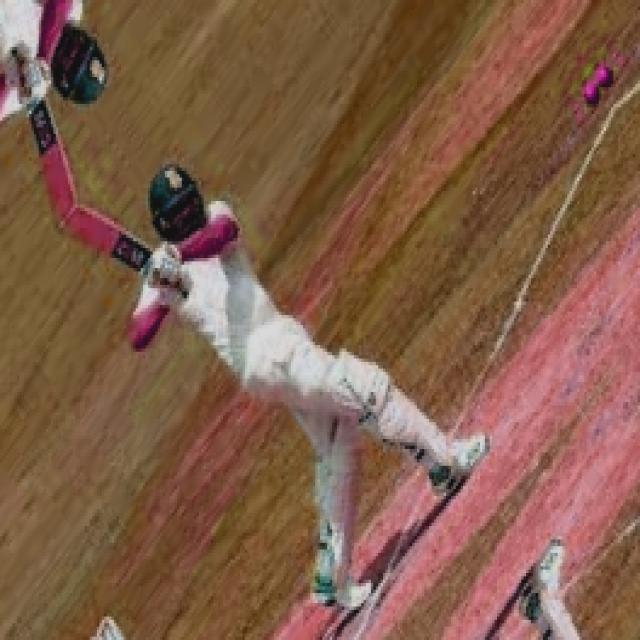toe: (66, 207, 93, 253)
